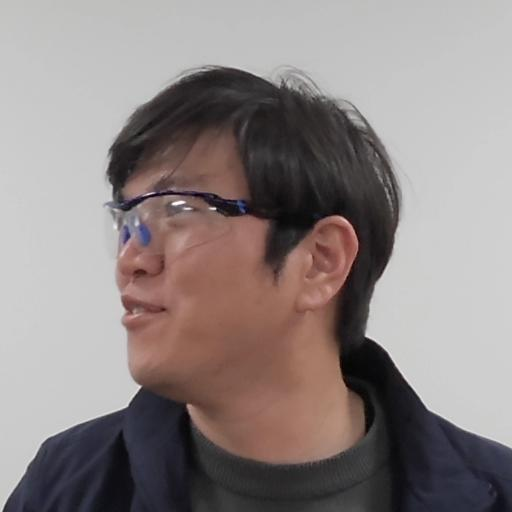glasses: (88, 65, 412, 408)
